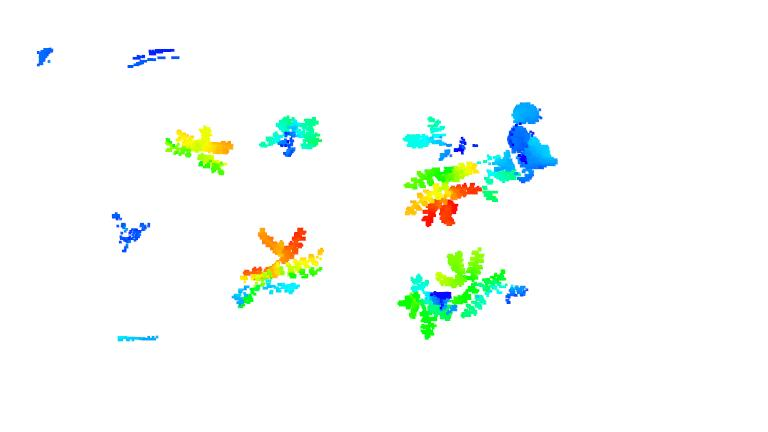chickpea: (402, 115, 522, 204), (232, 228, 328, 310), (436, 244, 532, 317), (398, 165, 486, 227), (161, 126, 239, 180), (400, 276, 459, 338), (257, 115, 321, 163), (111, 210, 151, 255)
